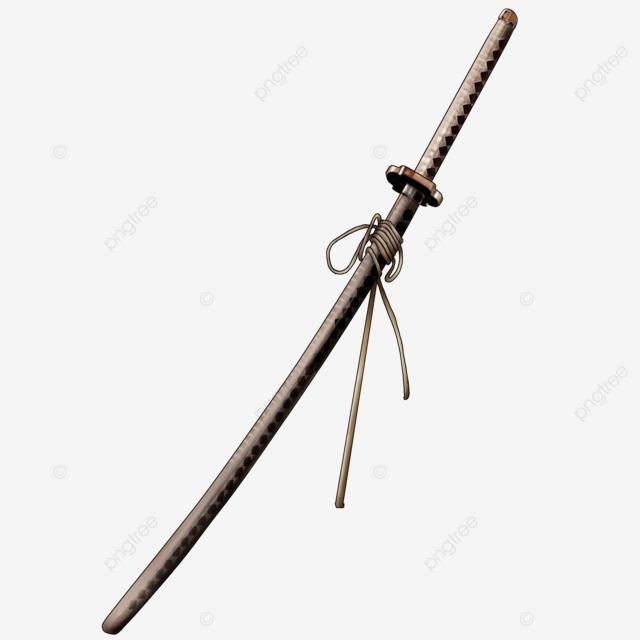knife: (99, 7, 522, 637)
